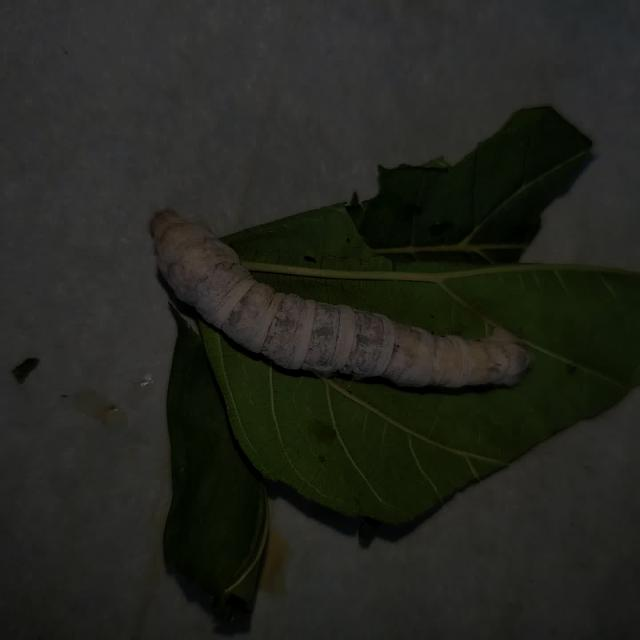Grasserie: (143, 199, 537, 408)
